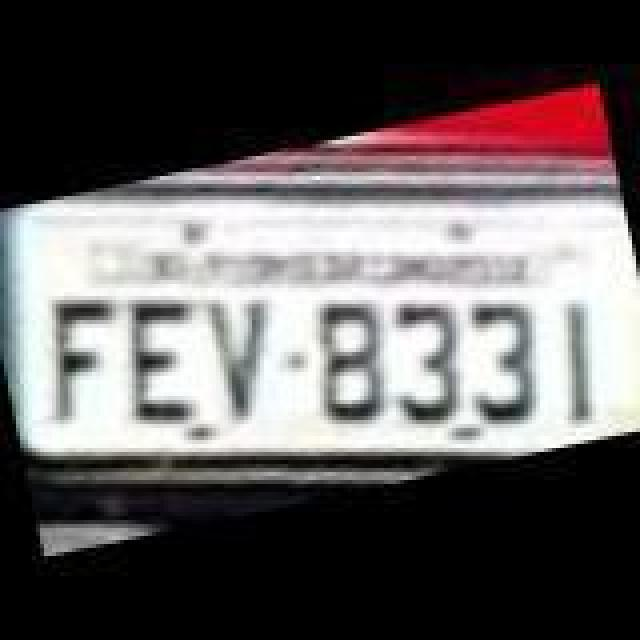1: (546, 296, 614, 424)
3: (450, 288, 542, 432), (378, 292, 470, 428)
8: (294, 292, 394, 428)
E: (106, 286, 214, 434)
F: (24, 282, 136, 422)
V: (200, 286, 296, 426)
